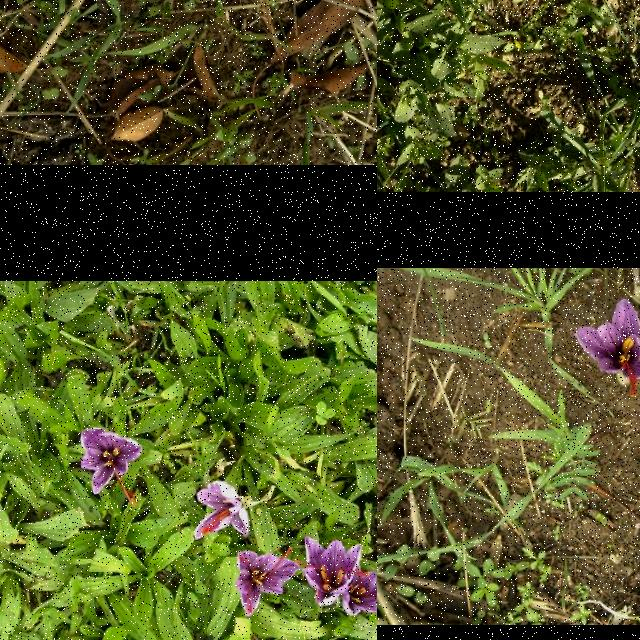flower: (576, 299, 640, 397), (294, 538, 368, 606), (81, 428, 142, 506), (238, 548, 298, 618), (192, 481, 250, 539), (343, 563, 377, 617)
